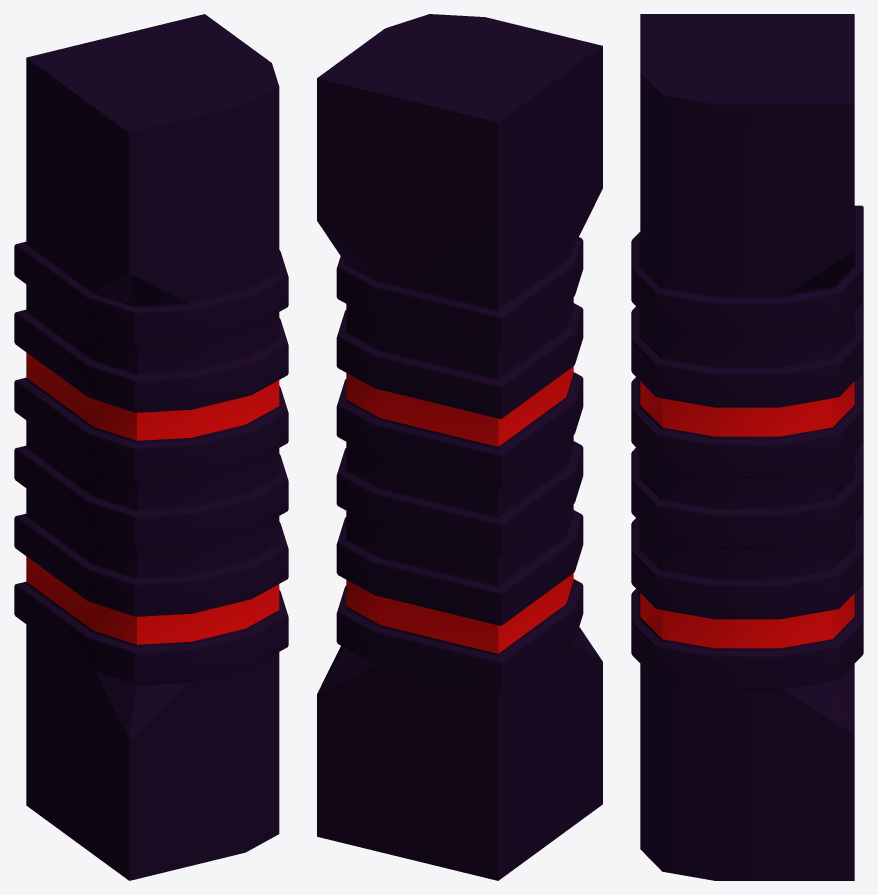
The model's file is cornerRed.fbx.
3 views of the same model, side by side, from view 1: azimuth 30°, elevation 25°; view 2: azimuth 150°, elevation 25°; view 3: azimuth 270°, elevation 25° (orthographic). The views are drawn at different scales.
Visible parts, largest first — view 1: pCube1; view 2: pCube1; view 3: pCube1.
Part boxes in pixels (<box>): pCube1: <box>14,14,288,880</box>; pCube1: <box>317,14,602,880</box>; pCube1: <box>631,14,863,880</box>.
Size of the model in its own units: 1.08 by 4 by 1.08.
